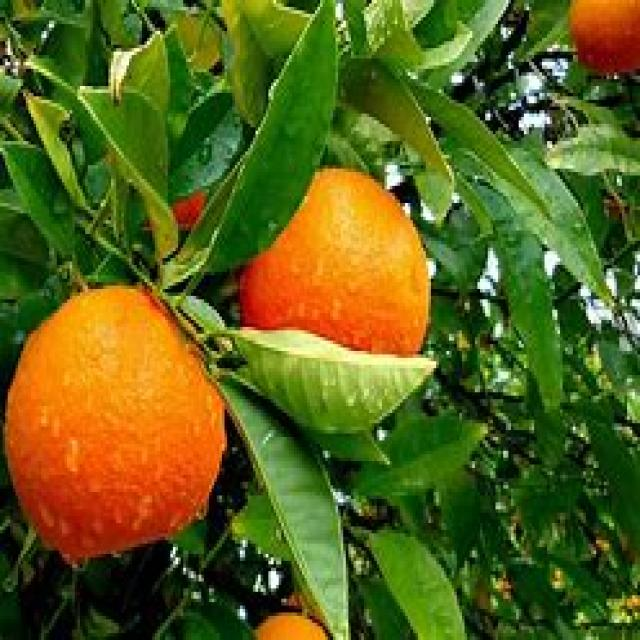Ripe: (3, 270, 232, 561), (235, 159, 436, 368)
